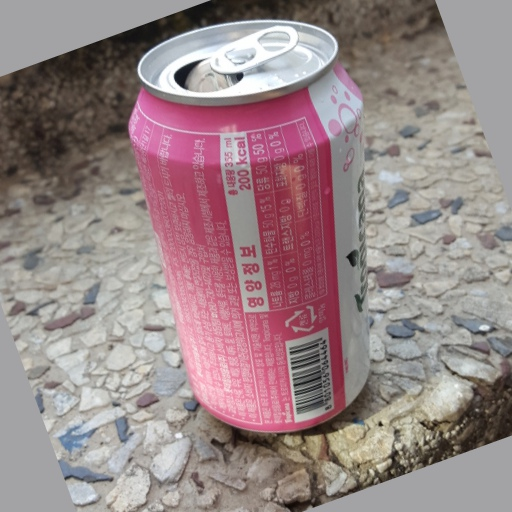Metal_0: (130, 18, 372, 435)
